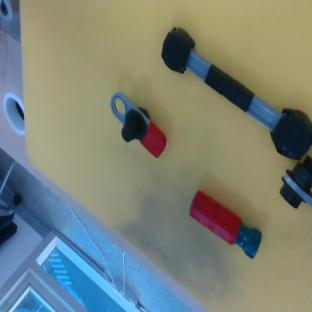part_1_bad: (279, 156, 312, 208)
part_1_good: (95, 89, 177, 163)
part_2_good: (183, 189, 268, 259)
